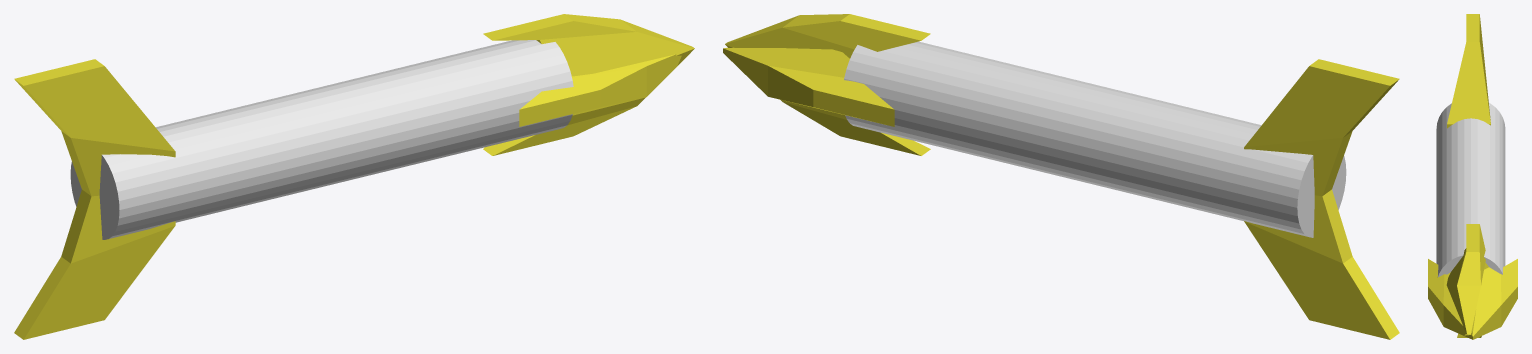
File: rocketArrow.fbx
3 renders of one model, left to right at view 1: azimuth 30°, elevation 25°; view 2: azimuth 150°, elevation 25°; view 3: azimuth 270°, elevation 25°, orthographic. The views are drawn at different scales.
Visible parts, largest first — view 1: Cube.002; view 2: Cube.002; view 3: Cube.002.
Boxes of the visible parts, box(x1,y1,x2,y2) form: Cube.002: box(14, 14, 694, 339); Cube.002: box(723, 14, 1399, 339); Cube.002: box(1428, 14, 1517, 339).
Bounding box in the file's own units: 70.52 × 25.48 × 11.57.
